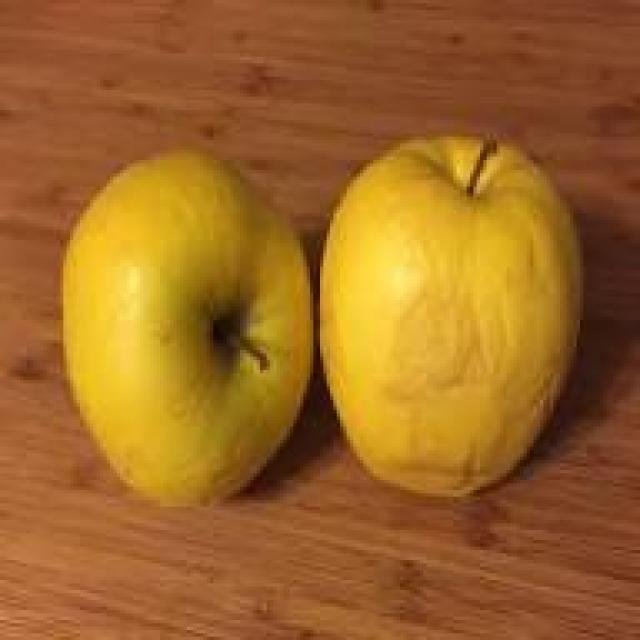apple: (320, 140, 557, 487), (57, 187, 293, 493)
